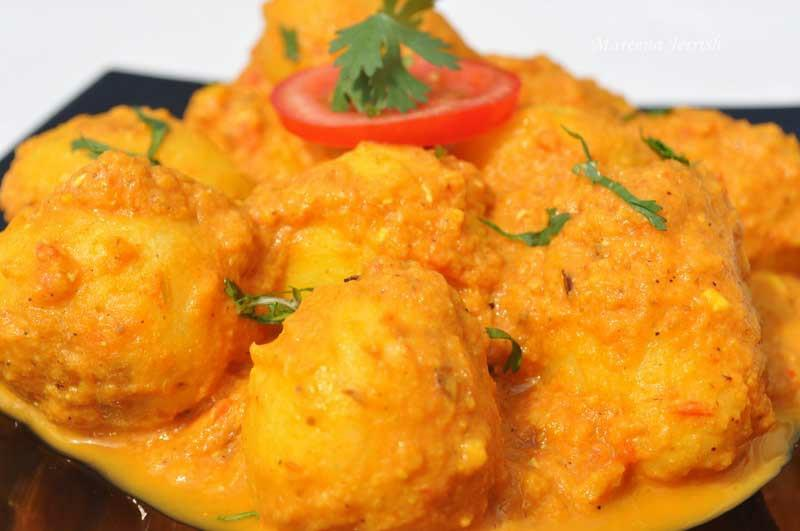DumAloo: (0, 2, 800, 531)
